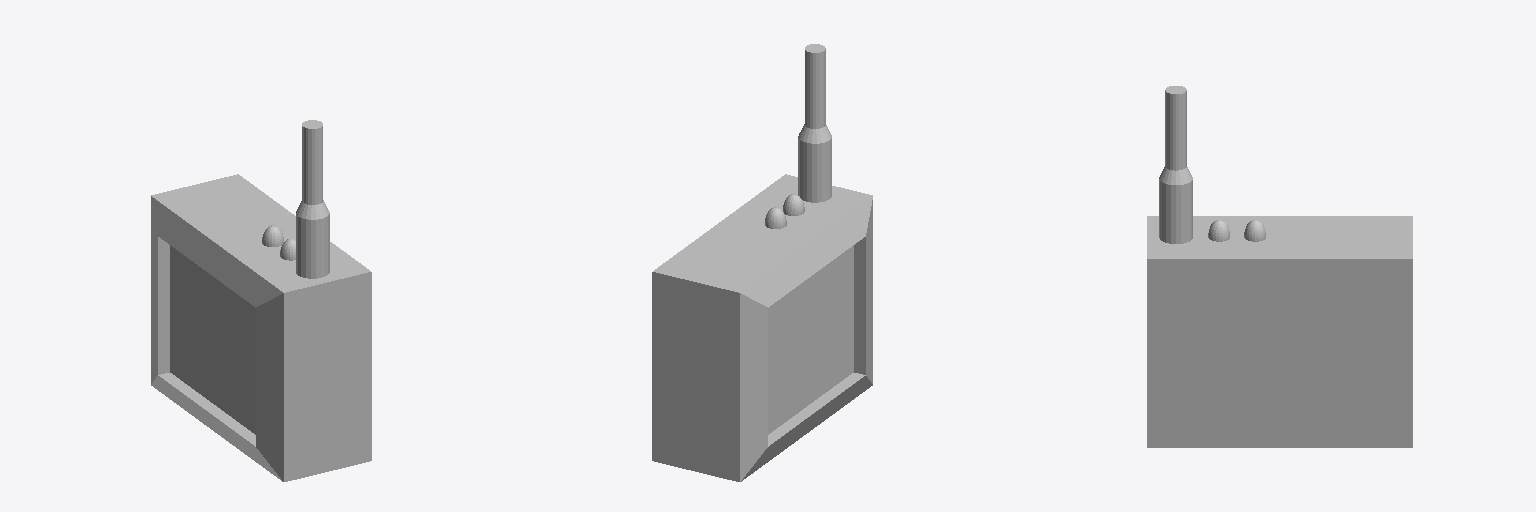
Rendered from plc.obj.
The picture shows the model from 3 angles: view 1: azimuth 30°, elevation 25°; view 2: azimuth 150°, elevation 25°; view 3: azimuth 270°, elevation 25°; orthographic projection.
Parts seen in each view (by area): view 1: polySurface43; view 2: polySurface43; view 3: polySurface43.
Part boxes in pixels (left/top/right/bottom): polySurface43: left=151, top=120, right=371, bottom=481; polySurface43: left=652, top=44, right=872, bottom=481; polySurface43: left=1147, top=86, right=1412, bottom=447.
Bounding box in the file's own units: 0.5849 × 1.92 × 1.38.